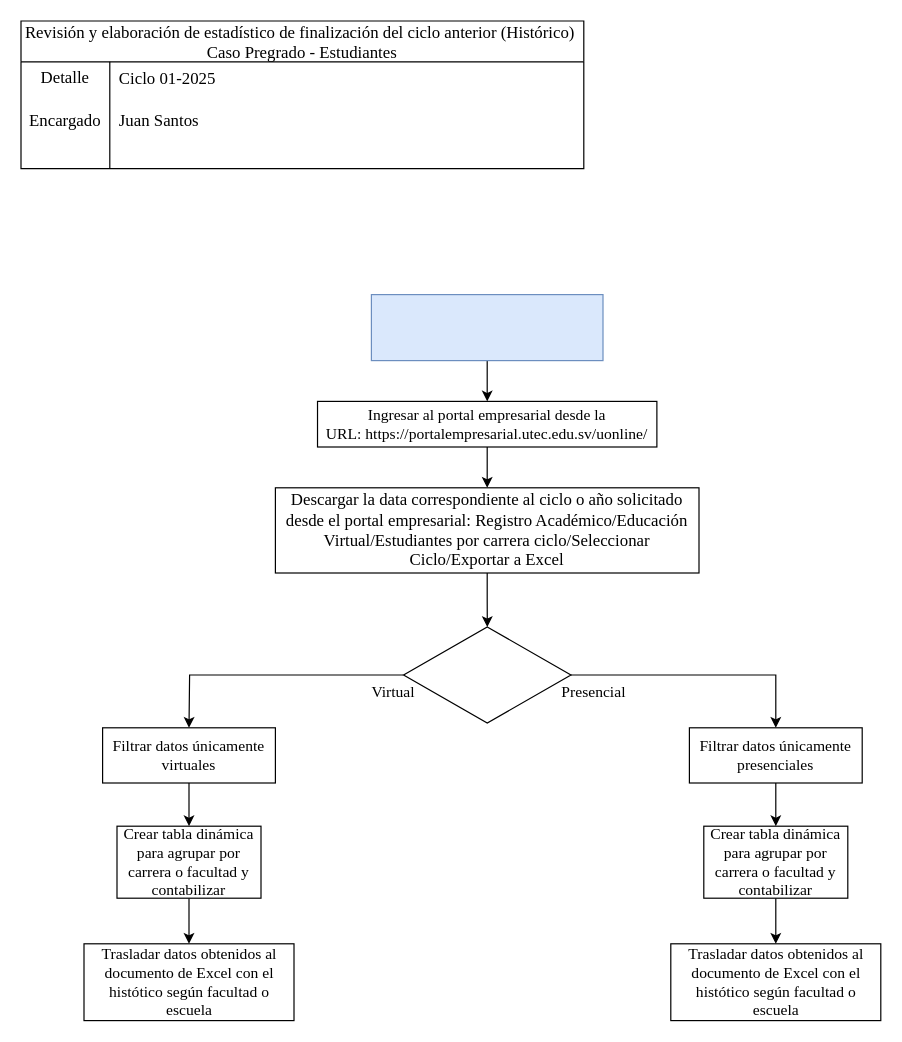
The diagram is 902 pixels wide and 1042 high, and some of its shapes have lost their labels. The shapes that lost their labels are listed below. From the top down, each one's centre as x and y in pixels, then its label:
point (486, 327): Revisión y elaboración de estadístico de finalización del ciclo anterior
point (486, 674): ¿Presencial o virtual?
